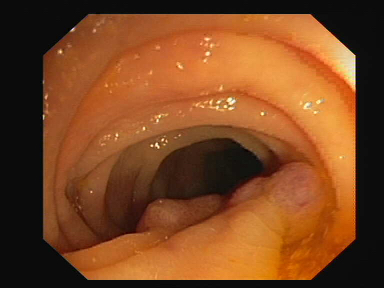polyp: (229, 161, 320, 207), (139, 194, 224, 234)
